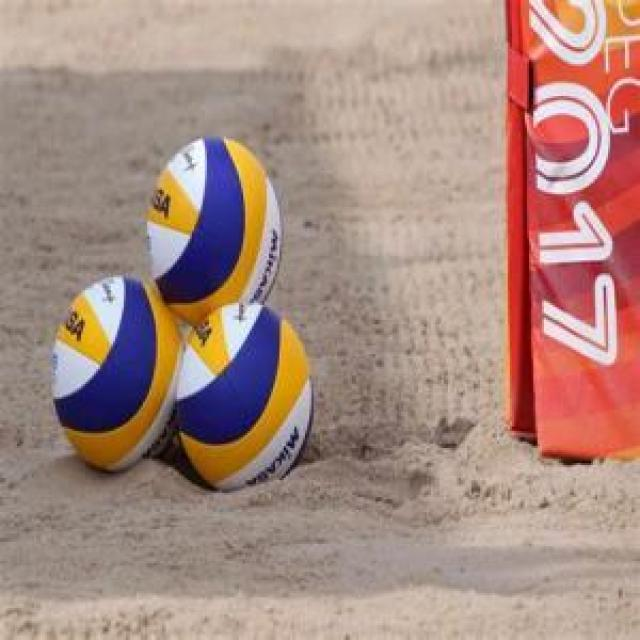volleyball: (175, 302, 314, 492), (146, 138, 283, 323), (54, 276, 182, 470)
